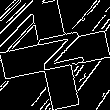N_W: (26, 30, 84, 80)
